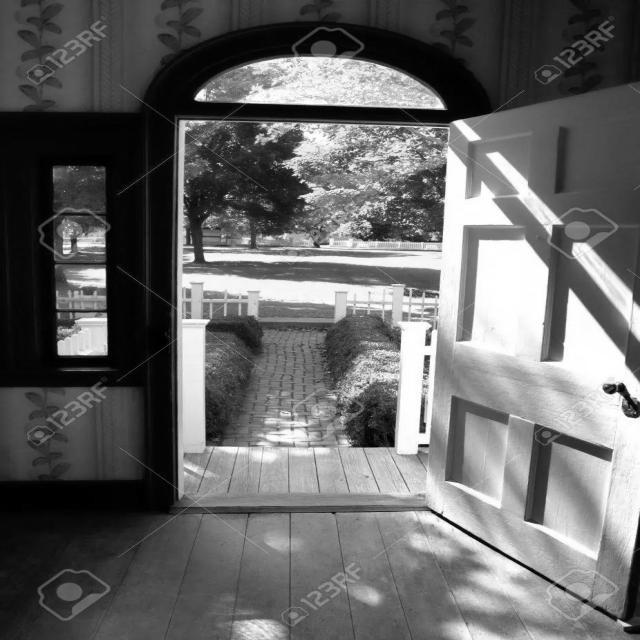door: (144, 76, 637, 631)
